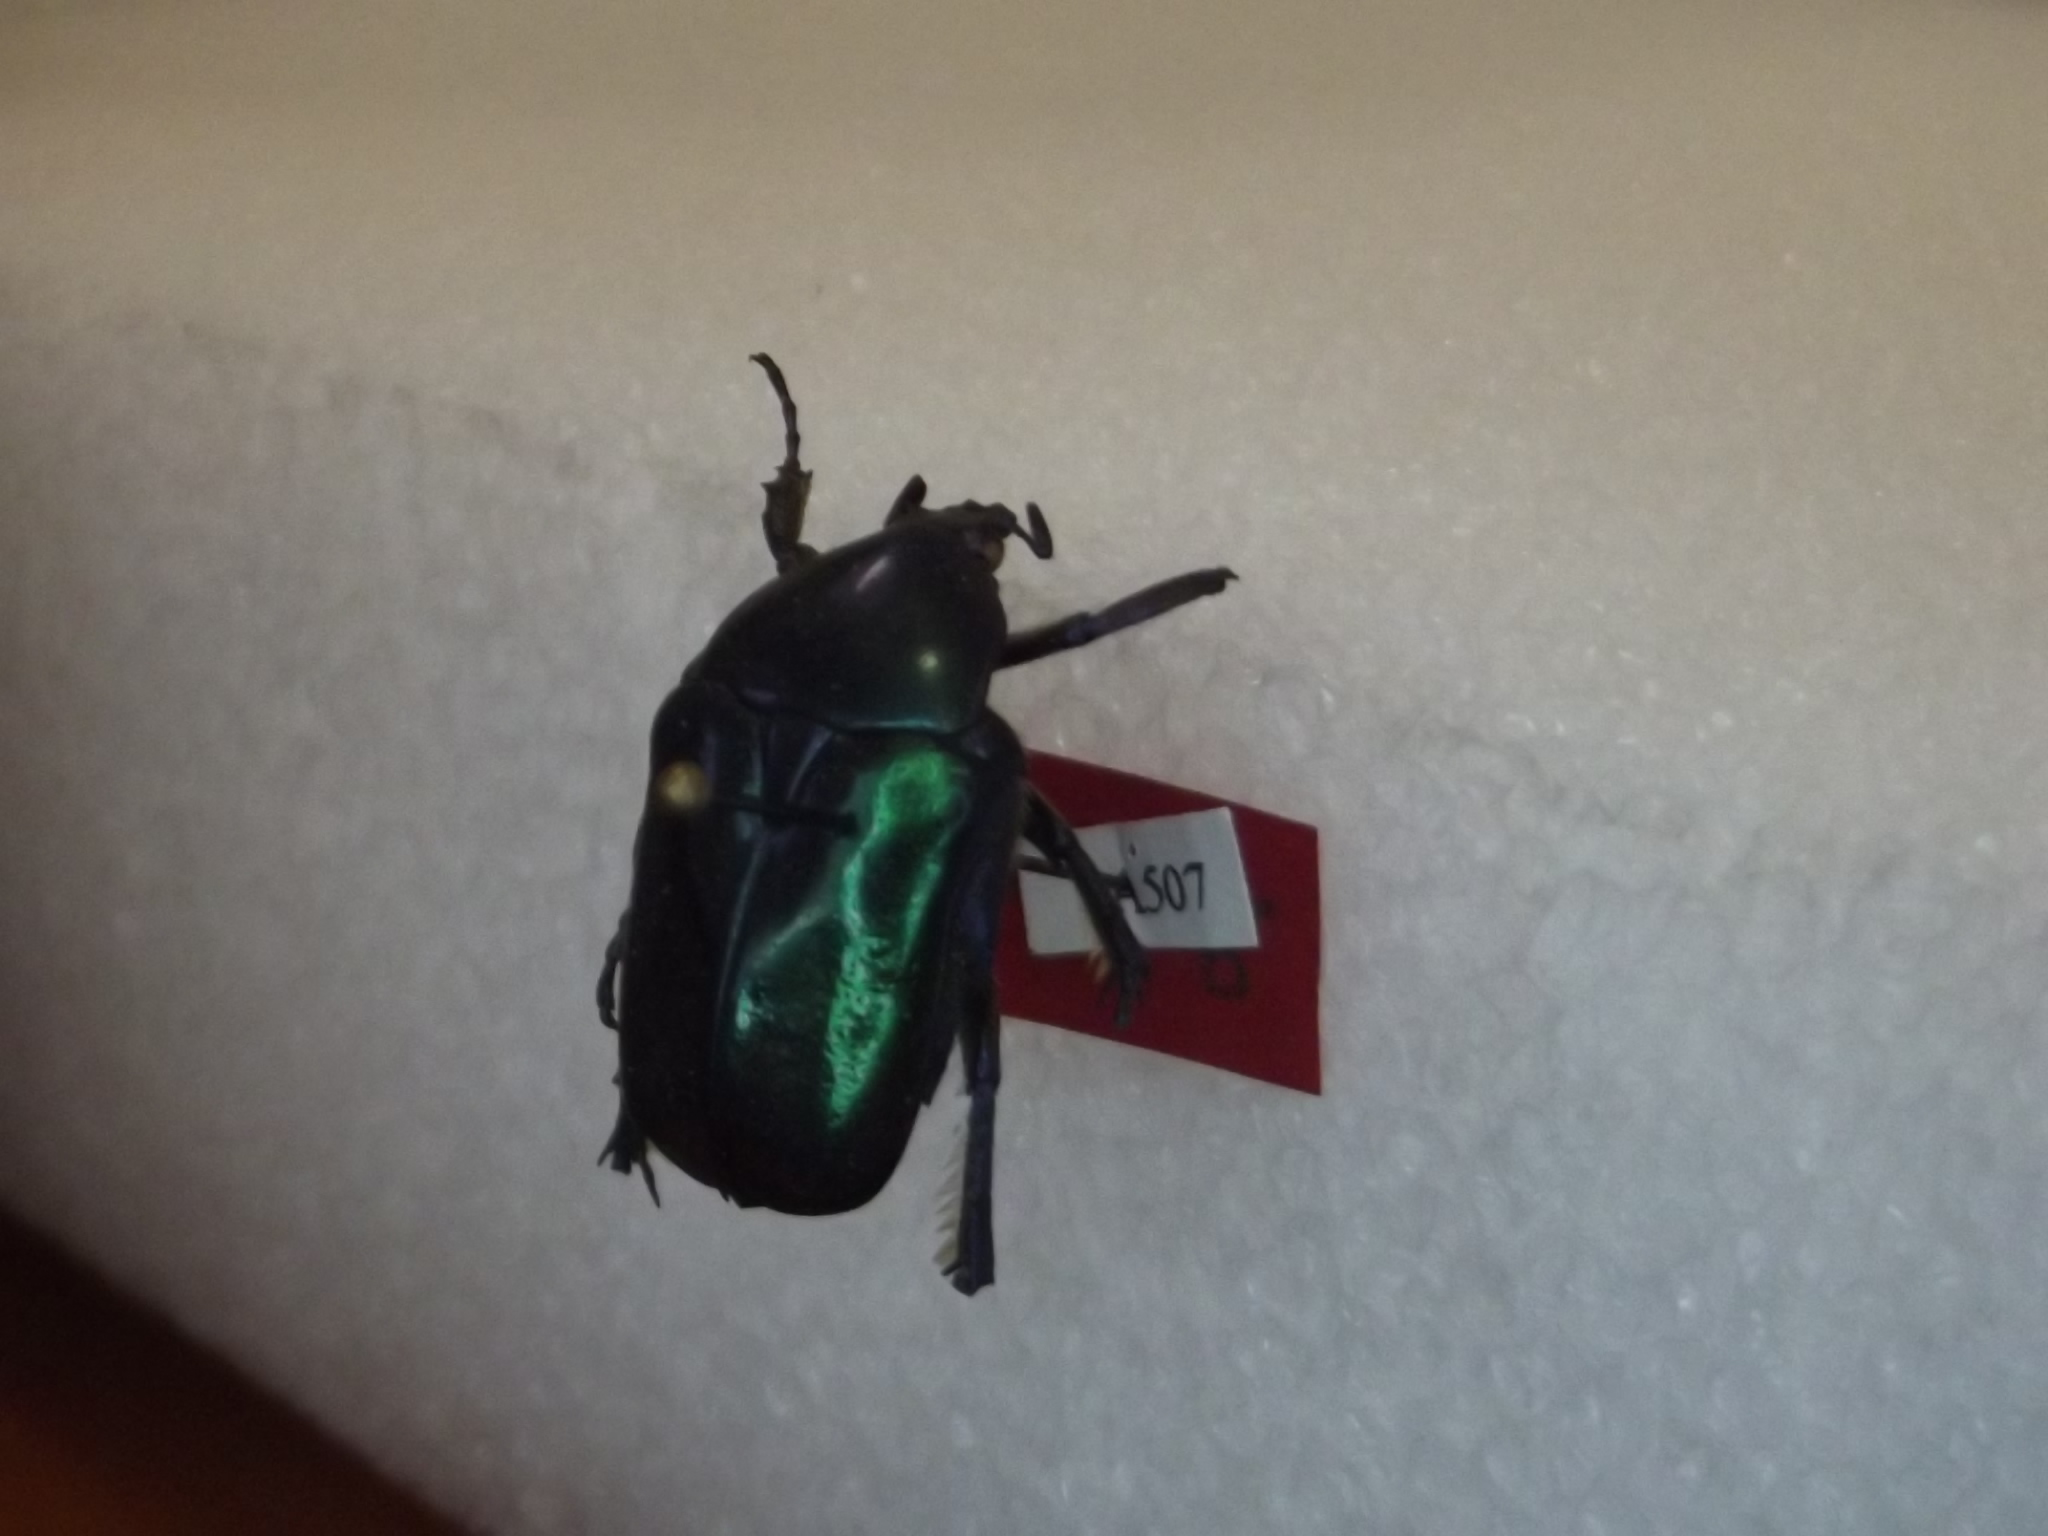Protaetia_besucheti: (574, 319, 1242, 1368)
